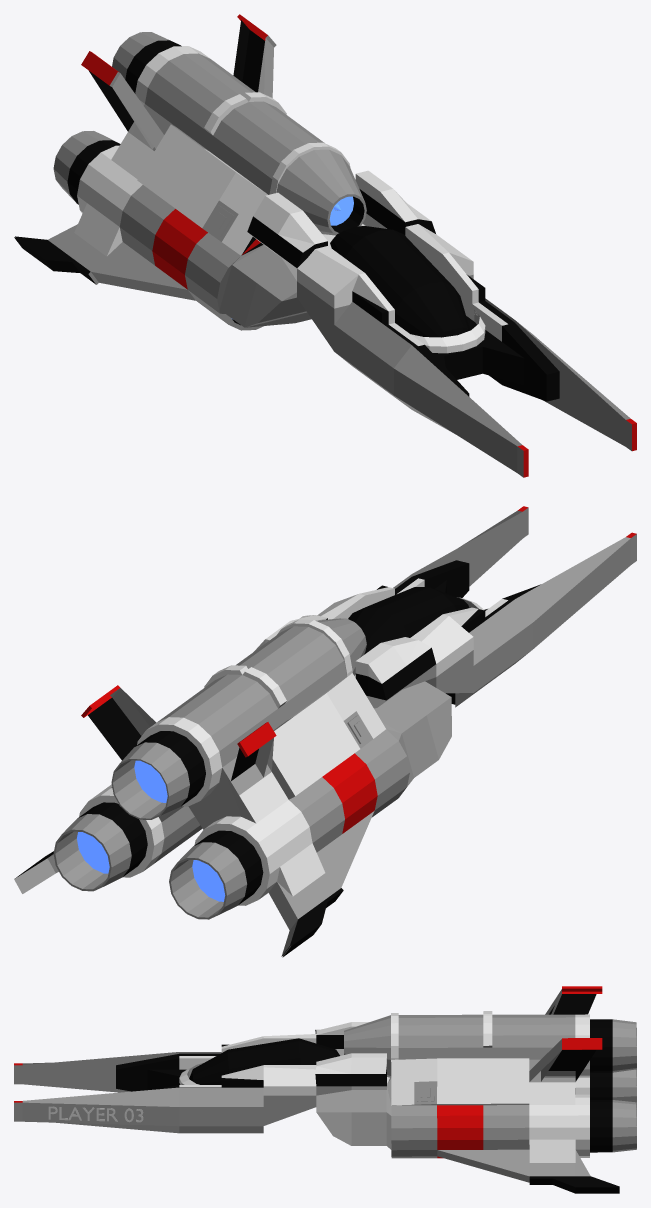
Rendered from ExportedBlenderFBXFile.fbx.
The picture shows the model from 3 angles, top to bottom: view 1: azimuth 30°, elevation 25°; view 2: azimuth 150°, elevation 25°; view 3: azimuth 270°, elevation 25°; orthographic projection. The views are drawn at different scales.
Parts seen in each view (by area): view 1: Cube; view 2: Cube; view 3: Cube, Text.
Part boxes in pixels (bbox=[...]): Cube: bbox=[14, 14, 636, 477]; Cube: bbox=[14, 506, 636, 957]; Cube: bbox=[14, 986, 636, 1193]; Text: bbox=[48, 1106, 143, 1122].
Size of the model in its own units: 10.74 by 7.16 by 29.56.
